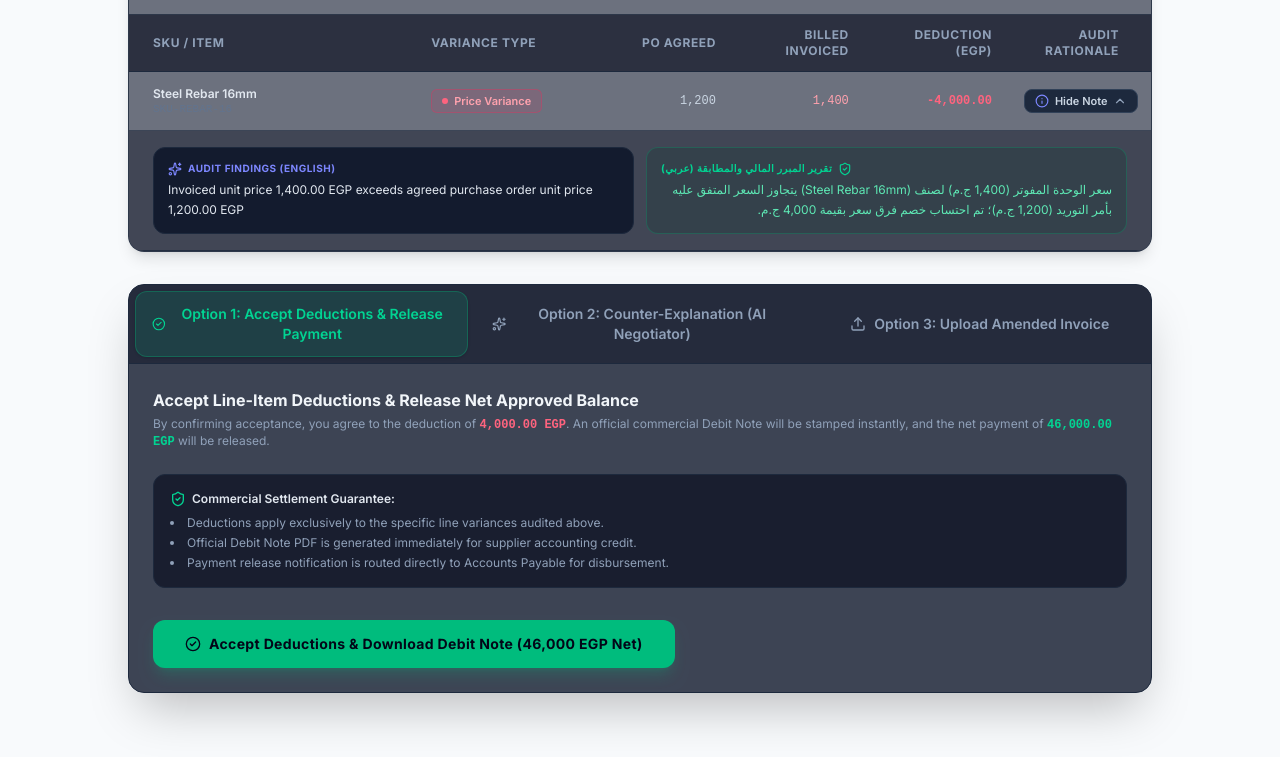
Test: SupplierPortalClient Component › successfully accepts adjustment and issues debit note
(page scrolled)
What coordinates should you click on to do the following:
click the button "Accept Deductions & Download Debit Note (46,000 EGP Net)"
I would click on:
 (414, 644)
Its box is [153, 620, 675, 668].
(page scrolled)
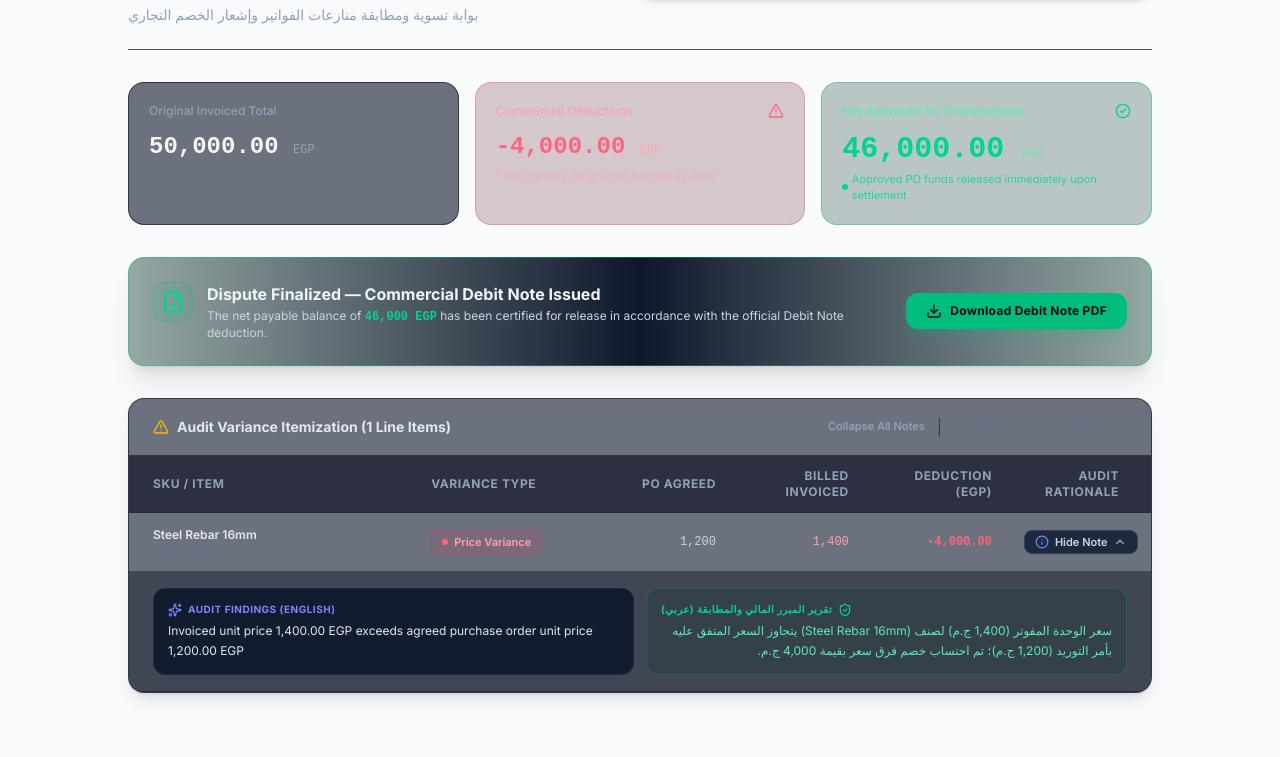
Now the heading "Dispute Finalized — Commercial Debit Note Issued" is shown, box [207, 284, 600, 304]
Now the link "Download Debit Note PDF" is shown, box [906, 293, 1127, 329]
